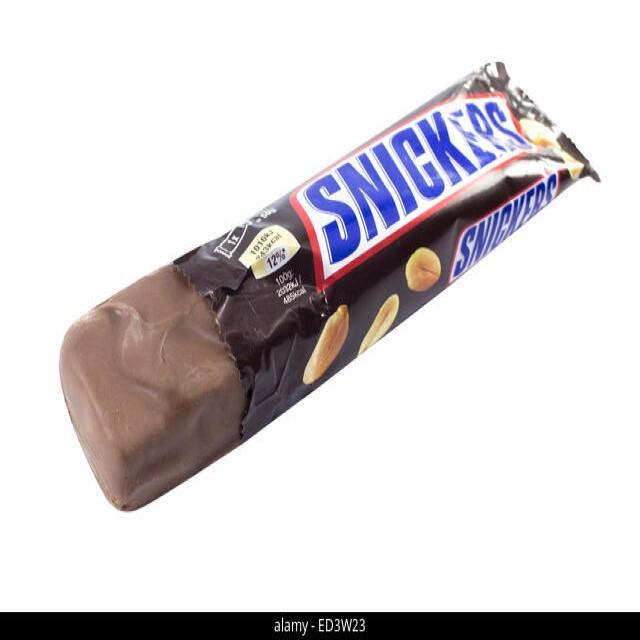snickers_chocolate: (220, 55, 558, 423)
